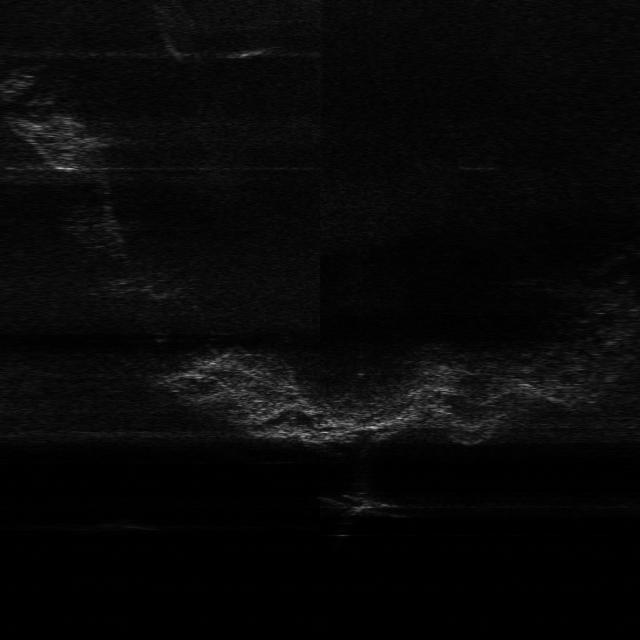plane: (317, 491, 412, 522)
